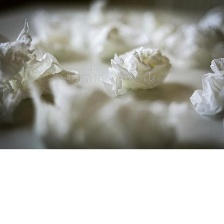tissue: (0, 13, 87, 120), (97, 40, 176, 102), (185, 53, 223, 121)
